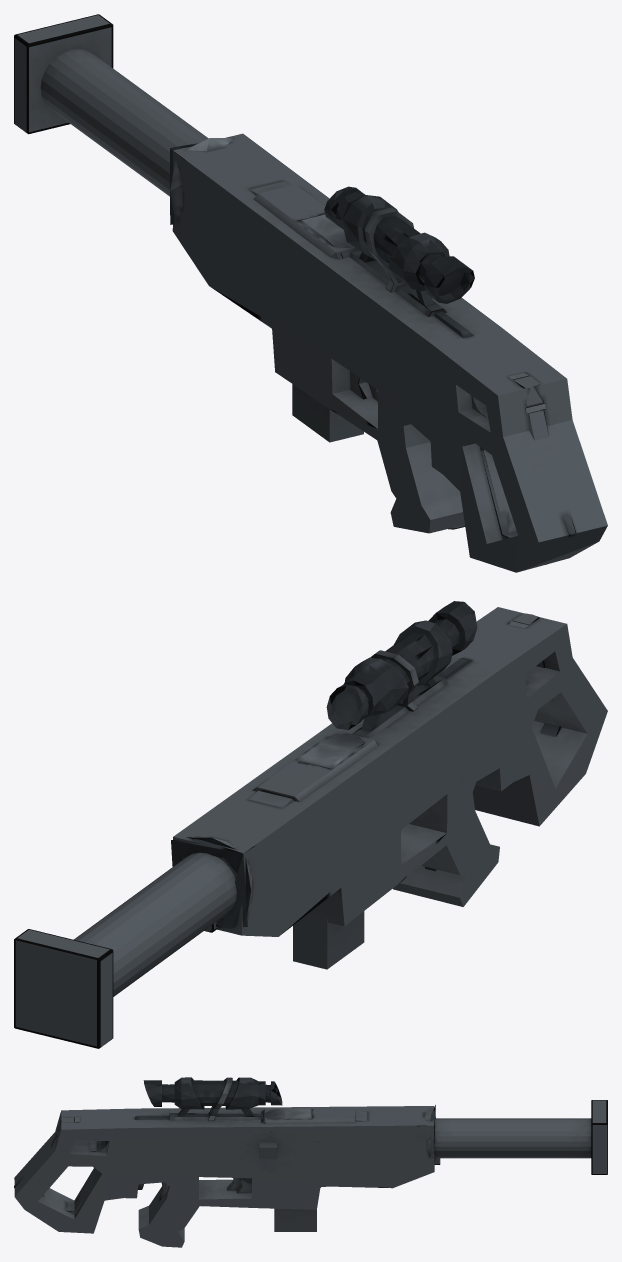
Rendered from burst_rifle.glb.
3 renders of one model, top to bottom at view 1: azimuth 30°, elevation 25°; view 2: azimuth 150°, elevation 25°; view 3: azimuth 270°, elevation 25°, orthographic. The views are drawn at different scales.
Visible parts, largest first — view 1: burst_rifle, InsertedAmmo; view 2: burst_rifle, InsertedAmmo; view 3: burst_rifle, InsertedAmmo, ChargingHandle.
Boxes of the visible parts, <box> form: burst_rifle: <box>14,14,607,572</box>; InsertedAmmo: <box>292,384,363,442</box>; burst_rifle: <box>14,601,607,1048</box>; InsertedAmmo: <box>293,909,364,969</box>; burst_rifle: <box>14,1077,607,1247</box>; InsertedAmmo: <box>274,1208,316,1231</box>; ChargingHandle: <box>259,1142,276,1159</box>.
Bounding box in the file's own units: 0.1287 × 0.3508 × 1.18.
Materials: 1 (1 with a texture image).
